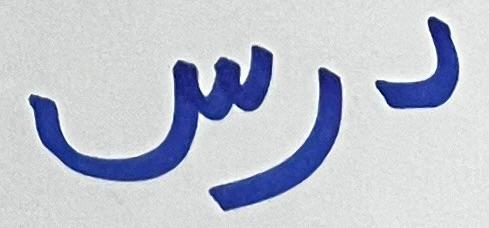dal: (366, 11, 465, 115)
sad: (276, 66, 349, 198)
sheen: (22, 43, 273, 170)
